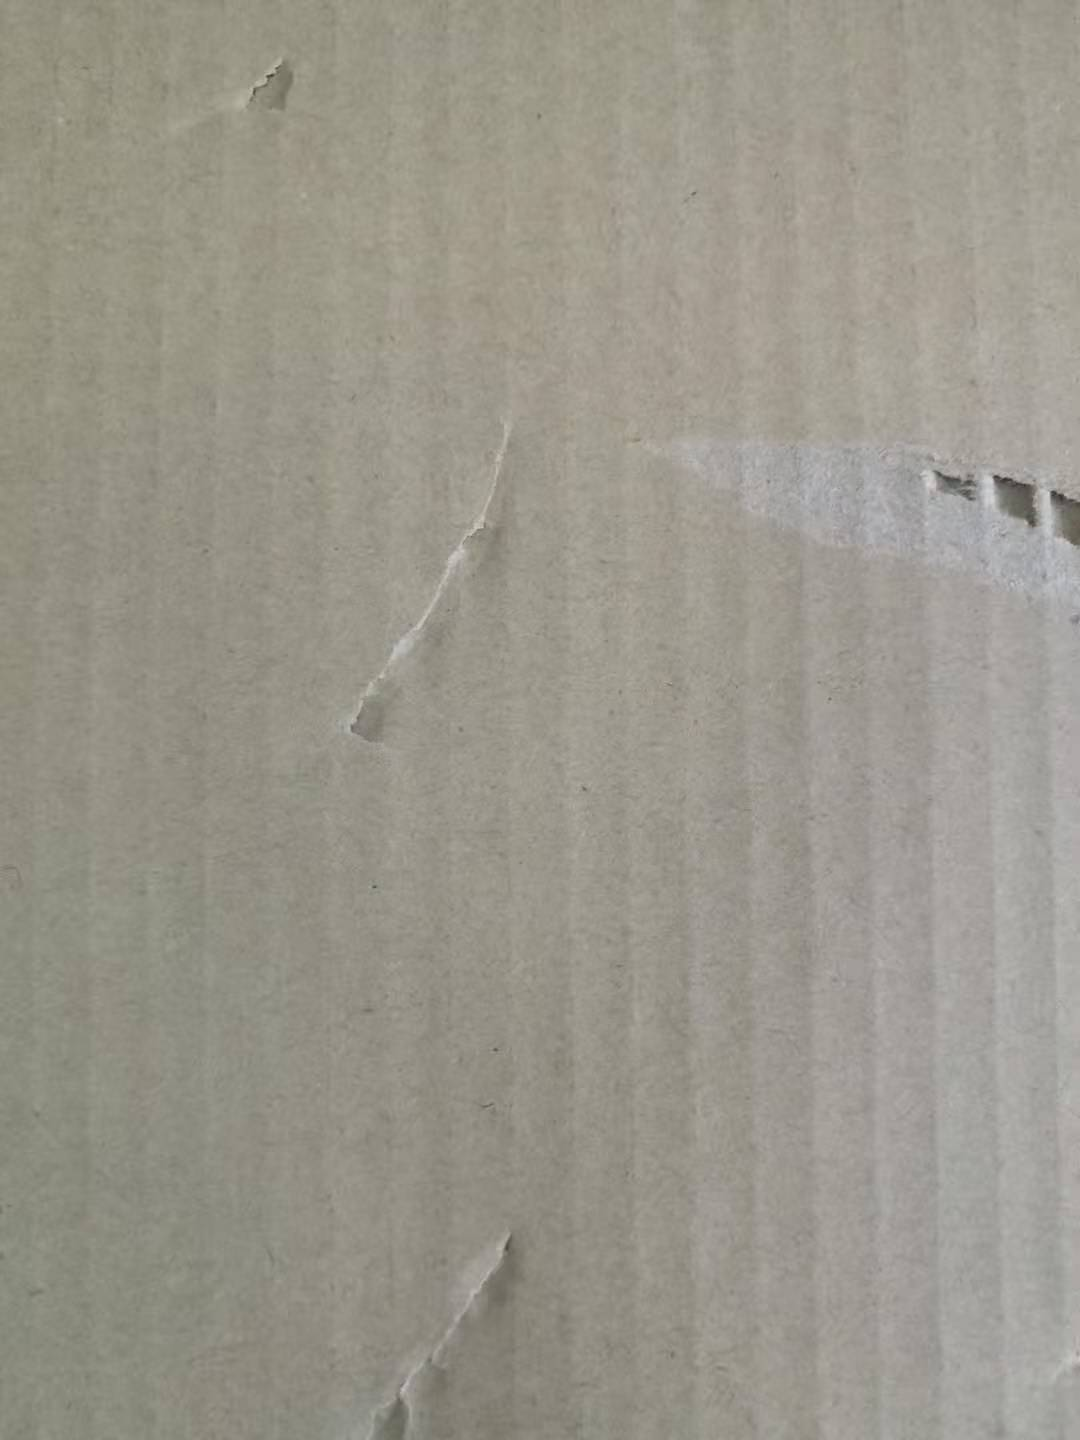defect: (628, 386, 1080, 641), (305, 393, 557, 779), (305, 1196, 550, 1440), (155, 25, 324, 175)
